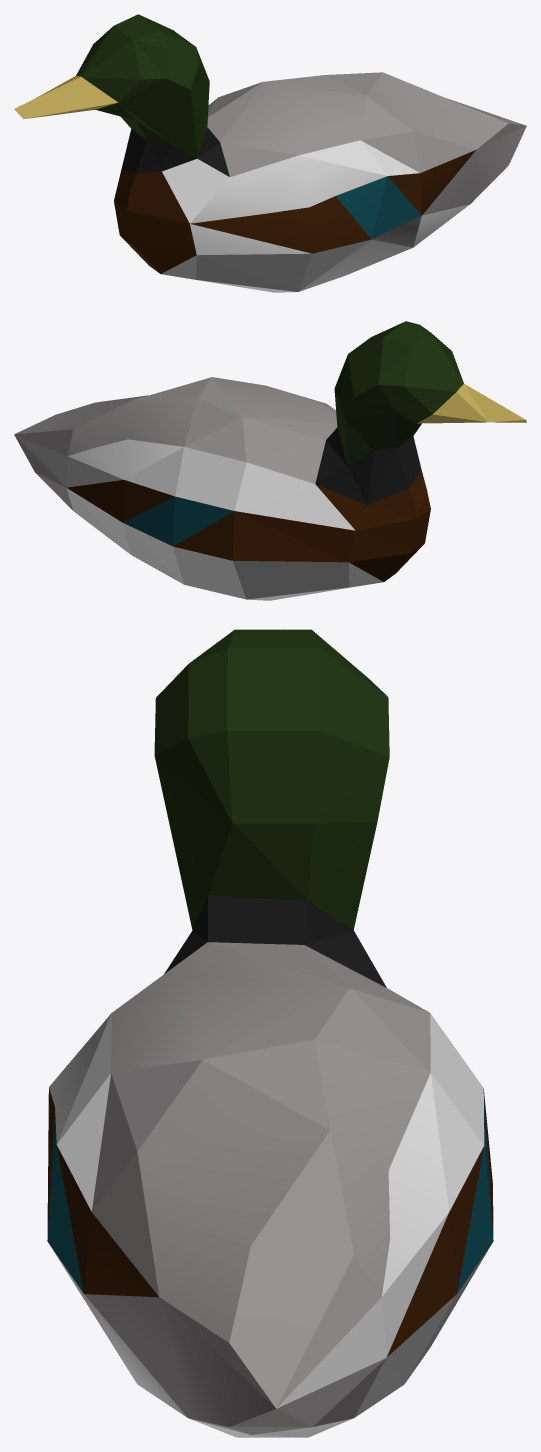
File: duck.fbx
The picture shows the model from 3 angles, top to bottom: view 1: azimuth 30°, elevation 25°; view 2: azimuth 150°, elevation 25°; view 3: azimuth 270°, elevation 25°; orthographic projection. The views are drawn at different scales.
Visible parts, largest first — view 1: pCube1; view 2: pCube1; view 3: pCube1.
Part boxes in pixels (bbox=[...]): pCube1: bbox=[14, 14, 526, 292]; pCube1: bbox=[14, 321, 526, 600]; pCube1: bbox=[47, 629, 493, 1437].
Bounding box in the file's own units: 2.61 × 1.42 × 0.9862.
